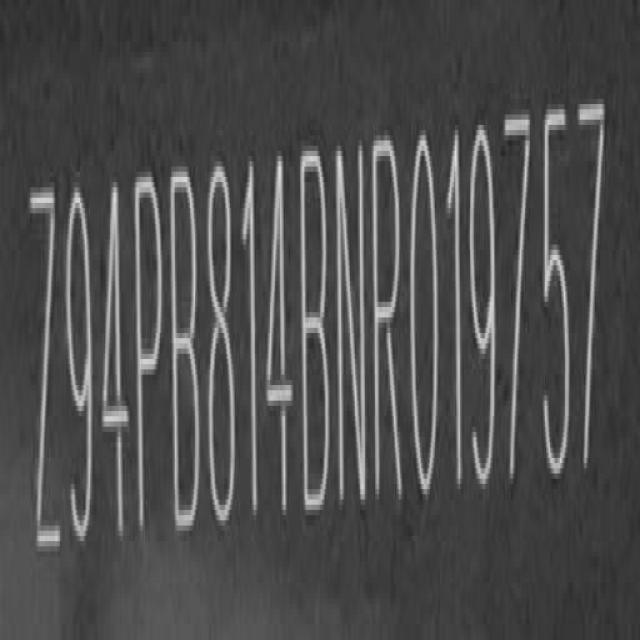0: (410, 126, 442, 504)
1: (444, 124, 464, 494), (243, 154, 261, 527)
4: (100, 176, 132, 559), (264, 149, 296, 522)
5: (543, 98, 575, 491)
7: (505, 102, 537, 500), (580, 96, 608, 485)
8: (206, 163, 238, 538)
9: (466, 118, 499, 501), (66, 182, 96, 564)
B: (171, 163, 204, 539), (302, 142, 334, 518)
N: (339, 134, 372, 515)
P: (134, 169, 166, 548)
R: (371, 131, 407, 514)
Z: (34, 181, 62, 573)
